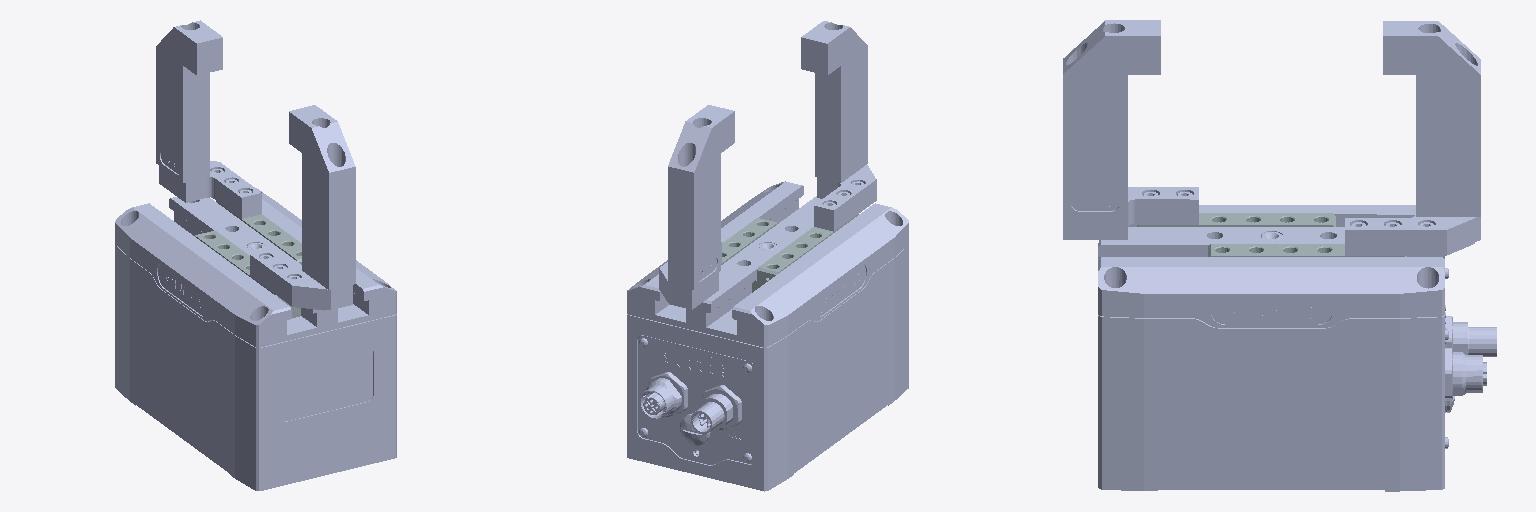
robot.urdf — egu_50:
<?xml version="1.0" ?>
<!-- =================================================================================== -->
<!-- |    This document was autogenerated by xacro from urdf/egu_50.urdf.xacro         | -->
<!-- |    EDITING THIS FILE BY HAND IS NOT RECOMMENDED                                 | -->
<!-- =================================================================================== -->
<robot name="egu_50">
  <!--degrees to radians-->
  <!-- colors -->
  <material name="light_blue_1">
    <color rgba="0.79216 0.81961 0.93333 1"/>
  </material>
  <material name="light_grey">
    <color rgba="0.69412 0.75294 0.77255 1"/>
  </material>
  <!-- xacro:egu_50_base_link prefix="" meshType="dae" / -->
  <!-- colors -->
  <material name="light_blue">
    <color rgba="0.79216 0.81961 0.93333 1"/>
  </material>
  <material name="grey">
    <color rgba="0.68627 0.68627 0.68627 1"/>
  </material>
  <!-- xacro:egu_50_fingers_link prefix="" meshType="dae" / -->
  <!-- xacro:egu_50_fingers_link prefix="" meshType="dae" / -->
  <!-- links -->
  <link name="root_link"/>
  <joint name="fixed_to_root" type="fixed">
    <origin rpy="0 0 1.57" xyz="0 0 -0.155"/>
    <parent link="root_link"/>
    <child link="egu_50_base_link"/>
    <axis xyz="0 0 0"/>
  </joint>
  <link name="egu_50_base_link">
    <inertial>
      <origin rpy="0 0 0" xyz="4.3604E-07 0.00037988 0.038749"/>
      <mass value="1.4423"/>
      <inertia ixx="0.0011497" ixy="-1.8423E-07" ixz="-9.465E-09" iyy="0.00061843" iyz="9.7336E-07" izz="0.0011032"/>
    </inertial>
    <visual>
      <origin rpy="0 0 0" xyz="0 0 0"/>
      <geometry>
        <mesh filename="meshes/base_link.dae"/>
      </geometry>
      <material name="light_blue_1"/>
    </visual>
    <collision>
      <origin rpy="0 0 0" xyz="0 0 0"/>
      <geometry>
        <mesh filename="collisions/base_link.STL"/>
      </geometry>
    </collision>
  </link>
  <link name="egu_50_symbol_1_left">
    <inertial>
      <origin rpy="0 0 0" xyz="-0.00014475 -7.7141E-05 -1.6517E-07"/>
      <mass value="0.00028259"/>
      <inertia ixx="1.9364E-08" ixy="-1.2932E-12" ixz="-2.7689E-15" iyy="1.2696E-09" iyz="-1.5694E-12" izz="1.8096E-08"/>
    </inertial>
    <visual>
      <origin rpy="0 0 0" xyz="0 0 0"/>
      <geometry>
        <mesh filename="meshes/symbol_1_left.dae"/>
      </geometry>
      <material name="light_blue_1"/>
    </visual>
  </link>
  <link name="egu_50_symbo_1_right">
    <inertial>
      <origin rpy="0 0 0" xyz="0.00014475 7.7141E-05 -1.6517E-07"/>
      <mass value="0.00028259"/>
      <inertia ixx="1.9364E-08" ixy="-1.2932E-12" ixz="2.7689E-15" iyy="1.2696E-09" iyz="1.5694E-12" izz="1.8096E-08"/>
    </inertial>
    <visual>
      <origin rpy="0 0 0" xyz="0 0 0"/>
      <geometry>
        <mesh filename="meshes/symbol_1_right.dae"/>
      </geometry>
      <material name="light_blue_1"/>
    </visual>
  </link>
  <link name="egu_50_translational_left">
    <inertial>
      <origin rpy="0 0 0" xyz="-1.4263E-11 -1.7621E-09 -0.0072452"/>
      <mass value="0.023586"/>
      <inertia ixx="4.5433E-06" ixy="-1.0067E-14" ixz="3.9379E-16" iyy="3.0604E-07" iyz="9.2402E-14" izz="4.5738E-06"/>
    </inertial>
    <visual>
      <origin rpy="0 0 0" xyz="0 0 0"/>
      <geometry>
        <mesh filename="meshes/translational_left.dae"/>
      </geometry>
      <material name="light_grey"/>
    </visual>
    <collision>
      <origin rpy="0 0 0" xyz="0 0 0"/>
      <geometry>
        <mesh filename="collisions/translational_left.dae"/>
      </geometry>
    </collision>
  </link>
  <link name="egu_50_translational_right">
    <inertial>
      <origin rpy="0 0 0" xyz="1.4263E-11 1.7621E-09 -0.0072452"/>
      <mass value="0.023586"/>
      <inertia ixx="4.5433E-06" ixy="-1.0067E-14" ixz="-3.9379E-16" iyy="3.0604E-07" iyz="-9.2402E-14" izz="4.5738E-06"/>
    </inertial>
    <visual>
      <origin rpy="0 0 0" xyz="0 0 0"/>
      <geometry>
        <mesh filename="meshes/translational_right.dae"/>
      </geometry>
      <material name="light_grey"/>
    </visual>
    <collision>
      <origin rpy="0 0 0" xyz="0 0 0"/>
      <geometry>
        <mesh filename="collisions/translational_right.dae"/>
      </geometry>
    </collision>
  </link>
  <!-- joints -->
  <joint name="egu_50_fixed_joint_symbol_1_left" type="fixed">
    <origin rpy="0 0 0" xyz="0 0.0353 0.0701"/>
    <parent link="egu_50_base_link"/>
    <child link="egu_50_symbol_1_left"/>
    <axis xyz="0 0 0"/>
  </joint>
  <joint name="egu_50_fixed_joint_symbol_1_right" type="fixed">
    <origin rpy="0 0 0" xyz="0 -0.0353 0.0701"/>
    <parent link="egu_50_base_link"/>
    <child link="egu_50_symbo_1_right"/>
    <axis xyz="0 0 0"/>
  </joint>
  <joint name="egu_50_prismatic_1" type="prismatic">
    <origin rpy="0 0 0" xyz="-0.01258 0.01265 0.083"/>
    <parent link="egu_50_base_link"/>
    <child link="egu_50_translational_left"/>
    <axis xyz="1 0 0"/>
    <limit effort="300" lower="-0.012" upper="0.039" velocity="0.11"/>
    <dynamics damping="0.3" friction="0.2"/>
  </joint>
  <joint name="egu_50_prismatic_2" type="prismatic">
    <origin rpy="0 0 0" xyz="0.01258 -0.01265 0.083"/>
    <parent link="egu_50_base_link"/>
    <child link="egu_50_translational_right"/>
    <axis xyz="1 0 0"/>
    <limit effort="300" lower="-0.039" upper="0.012" velocity="0.11"/>
    <mimic joint="egu_50_prismatic_1" multiplier="-1" offset="0"/>
    <dynamics damping="0.3" friction="0.2"/>
  </joint>
  <!-- links -->
  <link name="egu_50_base_link_left">
    <inertial>
      <origin rpy="0 0 0" xyz="0.0047644 -0.022233 -0.0049679"/>
      <mass value="0.011214"/>
      <inertia ixx="1.0648E-06" ixy="2.7782E-07" ixz="-1.0154E-09" iyy="3.0857E-07" iyz="2.0857E-09" izz="1.2766E-06"/>
    </inertial>
    <visual>
      <origin rpy="0 0 0" xyz="0 0 0"/>
      <geometry>
        <mesh filename="meshes/gripper_base_link_left.dae"/>
      </geometry>
      <material name="light_blue"/>
    </visual>
    <collision>
      <origin rpy="0 0 0" xyz="0 0 0"/>
      <geometry>
        <mesh filename="collisions/gripper_base_link_left.dae"/>
      </geometry>
    </collision>
  </link>
  <link name="egu_50_base_link_right">
    <inertial>
      <origin rpy="0 0 0" xyz="-0.0047644 0.022233 -0.0049679"/>
      <mass value="0.011214"/>
      <inertia ixx="1.0648E-06" ixy="2.7782E-07" ixz="1.0154E-09" iyy="3.0857E-07" iyz="-2.0857E-09" izz="1.2766E-06"/>
    </inertial>
    <visual>
      <origin rpy="0 0 0" xyz="0 0 0"/>
      <geometry>
        <mesh filename="meshes/gripper_base_link_right.dae"/>
      </geometry>
      <material name="light_blue"/>
    </visual>
    <collision>
      <origin rpy="0 0 0" xyz="0 0 0"/>
      <geometry>
        <mesh filename="meshes/gripper_base_link_right.dae"/>
      </geometry>
      <material name="light_blue"/>
    </collision>
  </link>
  <link name="egu_50_finger_down">
    <inertial>
      <origin rpy="0 0 0" xyz="-3.0212E-05 -0.0036302 0.036294"/>
      <mass value="0.028"/>
      <inertia ixx="8.0228E-06" ixy="-1.3517E-09" ixz="-1.4745E-08" iyy="7.1741E-06" iyz="-1.1797E-06" izz="1.4075E-06"/>
    </inertial>
    <visual>
      <origin rpy="0 0 0" xyz="0 0 0"/>
      <geometry>
        <mesh filename="meshes/gripper_finger_down.dae"/>
      </geometry>
      <material name="light_blue"/>
    </visual>
    <collision>
      <origin rpy="0 0 0" xyz="0 0 0"/>
      <geometry>
        <mesh filename="collisions/gripper_finger_down.STL"/>
      </geometry>
    </collision>
  </link>
  <link name="egu_50_finger_up">
    <inertial>
      <origin rpy="0 0 0" xyz="3.0212E-05 0.0036302 0.036294"/>
      <mass value="0.028"/>
      <inertia ixx="8.0228E-06" ixy="-1.3517E-09" ixz="1.4745E-08" iyy="7.1741E-06" iyz="1.1797E-06" izz="1.4075E-06"/>
    </inertial>
    <visual>
      <origin rpy="0 0 0" xyz="0 0 0"/>
      <geometry>
        <mesh filename="meshes/gripper_finger_up.dae"/>
      </geometry>
      <material name="light_blue"/>
    </visual>
    <collision>
      <origin rpy="0 0 0" xyz="0 0 0"/>
      <geometry>
        <mesh filename="collisions/gripper_finger_up.STL"/>
      </geometry>
    </collision>
  </link>
  <link name="egu_50_symbol_2_left">
    <inertial>
      <origin rpy="0 0 0" xyz="-0.00014622 -3.5571E-05 -4.593E-08"/>
      <mass value="5E-05"/>
      <inertia ixx="6.5907E-10" ixy="-1.2575E-13" ixz="-1.6238E-16" iyy="7.8343E-11" iyz="-6.746E-14" izz="5.8113E-10"/>
    </inertial>
    <visual>
      <origin rpy="0 0 0" xyz="0 0 0"/>
      <geometry>
        <mesh filename="meshes/symbol_2_left.dae"/>
      </geometry>
      <material name="light_blue"/>
    </visual>
  </link>
  <link name="egu_50_symbol_2_right">
    <inertial>
      <origin rpy="0 0 0" xyz="0.00014622 3.5571E-05 -4.593E-08"/>
      <mass value="5E-05"/>
      <inertia ixx="6.5907E-10" ixy="-1.2575E-13" ixz="1.6238E-16" iyy="7.8343E-11" iyz="6.746E-14" izz="5.8113E-10"/>
    </inertial>
    <visual>
      <origin rpy="0 0 0" xyz="0 0 0"/>
      <geometry>
        <mesh filename="meshes/symbol_2_right.dae"/>
      </geometry>
      <material name="light_blue"/>
    </visual>
  </link>
  <link name="egu_50_screw_1">
    <inertial>
      <origin rpy="0 0 0" xyz="-5.9458E-20 -6.9389E-18 -0.0040161"/>
      <mass value="0.00059"/>
      <inertia ixx="1.2809E-08" ixy="3.2834E-26" ixz="2.1005E-25" iyy="1.2809E-08" iyz="2.3683E-25" izz="1.3113E-09"/>
    </inertial>
    <visual>
      <origin rpy="0 0 0" xyz="0 0 0"/>
      <geometry>
        <mesh filename="meshes/screw_1.dae"/>
      </geometry>
      <material name="grey"/>
    </visual>
  </link>
  <link name="egu_50_screw_2">
    <inertial>
      <origin rpy="0 0 0" xyz="-5.8248E-20 0 -0.0040161"/>
      <mass value="0.00059"/>
      <inertia ixx="1.2809E-08" ixy="3.2834E-26" ixz="2.1401E-25" iyy="1.2809E-08" iyz="2.3533E-25" izz="1.3113E-09"/>
    </inertial>
    <visual>
      <origin rpy="0 0 0" xyz="0 0 0"/>
      <geometry>
        <mesh filename="meshes/screw_2.dae"/>
      </geometry>
      <material name="grey"/>
    </visual>
  </link>
  <link name="egu_50_screw_3">
    <inertial>
      <origin rpy="0 0 0" xyz="5.9458E-20 0 -0.0040161"/>
      <mass value="0.00059"/>
      <inertia ixx="1.2809E-08" ixy="3.2834E-26" ixz="-2.1005E-25" iyy="1.2809E-08" iyz="-2.3683E-25" izz="1.3113E-09"/>
    </inertial>
    <visual>
      <origin rpy="0 0 0" xyz="0 0 0"/>
      <geometry>
        <mesh filename="meshes/screw_3.dae"/>
      </geometry>
      <material name="grey"/>
    </visual>
  </link>
  <link name="egu_50_screw_4">
    <inertial>
      <origin rpy="0 0 0" xyz="5.9458E-20 6.9389E-18 -0.0040161"/>
      <mass value="0.00059"/>
      <inertia ixx="1.2809E-08" ixy="3.2834E-26" ixz="-2.1005E-25" iyy="1.2809E-08" iyz="-2.3683E-25" izz="1.3113E-09"/>
    </inertial>
    <visual>
      <origin rpy="0 0 0" xyz="0 0 0"/>
      <geometry>
        <mesh filename="meshes/screw_4.dae"/>
      </geometry>
      <material name="grey"/>
    </visual>
  </link>
  <!-- joints -->
  <joint name="fixed_joint_egu_50_screw_2" type="fixed">
    <origin rpy="0 0 0" xyz="0.025 0.01258 0.00800000000000001"/>
    <parent link="egu_50_base_link_right"/>
    <child link="egu_50_screw_2"/>
    <axis xyz="0 0 0"/>
  </joint>
  <joint name="fixed_joint_egu_50_screw_1" type="fixed">
    <origin rpy="0 0 0" xyz="0.038 0.01258 0.00800000000000001"/>
    <parent link="egu_50_base_link_right"/>
    <child link="egu_50_screw_1"/>
    <axis xyz="0 0 0"/>
  </joint>
  <joint name="fixed_joint_egu_50_screw_3" type="fixed">
    <origin rpy="0 0 0" xyz="-0.025 -0.01258 0.00800000000000001"/>
    <parent link="egu_50_base_link_left"/>
    <child link="egu_50_screw_3"/>
    <axis xyz="0 0 0"/>
  </joint>
  <joint name="fixed_joint_egu_50_screw_4" type="fixed">
    <origin rpy="0 0 0" xyz="-0.038 -0.01258 0.00800000000000001"/>
    <parent link="egu_50_base_link_left"/>
    <child link="egu_50_screw_4"/>
    <axis xyz="0 0 0"/>
  </joint>
  <joint name="fixed_joint_finger_up" type="fixed">
    <origin rpy="0 0 0" xyz="0 0 -0.00800000000000001"/>
    <parent link="egu_50_screw_2"/>
    <child link="egu_50_finger_up"/>
    <axis xyz="0 0 0"/>
  </joint>
  <joint name="fixed_joint_gripper_finger_down" type="fixed">
    <origin rpy="0 0 0" xyz="0.013 0 -0.00800000000000001"/>
    <parent link="egu_50_screw_4"/>
    <child link="egu_50_finger_down"/>
    <axis xyz="0 0 0"/>
  </joint>
  <joint name="fixed_joint_symbol_2_left" type="fixed">
    <origin rpy="0 0 0" xyz="0.0065 0.00575 0.005"/>
    <parent link="egu_50_finger_up"/>
    <child link="egu_50_symbol_2_left"/>
    <axis xyz="0 0 0"/>
  </joint>
  <joint name="fixed_joint_symbol_2_right" type="fixed">
    <origin rpy="0 0 0" xyz="-0.0065 -0.00575 0.005"/>
    <parent link="egu_50_finger_down"/>
    <child link="egu_50_symbol_2_right"/>
    <axis xyz="0 0 0"/>
  </joint>
  <gazebo reference="egu_50_finger_down">
    <kp>1000000.0</kp>
    <kd>1.0</kd>
    <mu1>1.0</mu1>
    <mu2>1.0</mu2>
    <minDepth>0.001</minDepth>
  </gazebo>
  <gazebo reference="egu_50_finger_up">
    <kp>1000000.0</kp>
    <kd>1.0</kd>
    <mu1>1.0</mu1>
    <mu2>1.0</mu2>
    <minDepth>0.001</minDepth>
  </gazebo>
  <transmission name="trans_prismatic_joint_translational_1_effort">
    <type>transmission_interface/SimpleTransmission</type>
    <joint name="egu_50_prismatic_1">
      <hardwareInterface>hardware_interface/EffortJointInterface</hardwareInterface>
    </joint>
    <actuator name="prismatic_joint_translational_1_motor_effort">
      <hardwareInterface>hardware_interface/EffortJointInterface</hardwareInterface>
      <mechanicalReduction>1</mechanicalReduction>
    </actuator>
  </transmission>
  <gazebo>
    <plugin filename="libroboticsgroup_upatras_gazebo_mimic_joint_plugin.so" name="translational_2">
      <joint>egu_50_prismatic_1</joint>
      <mimicJoint>egu_50_prismatic_2</mimicJoint>
      <multiplier>-1</multiplier>
      <offset>0</offset>
    </plugin>
  </gazebo>
  <!-- links -->
  <!--link name="world" /-->
  <!--
        <joint name="fixed" type="fixed">
            <parent link="world" />
            <child link="${prefix}base_link" />
        </joint>
-->
  <!-- <joint name="fixed_joint_gripper_base_link_right" type="fixed">
          <origin xyz="0.018 0 0.01" rpy="1.5708 0 -1.5708" />
          <parent link="${prefix_1}_translational_right" />
          <child link="${prefix_2}_base_link_right" />
          <axis xyz="0 0 0" />
        </joint>

        <joint name="fixed_joint_gripper_base_link_left" type="fixed">
          <origin xyz="-0.018 0 0.01" rpy="1.5708 0 1.5708" />
          <parent link="${prefix_1}_translational_left" />
          <child link="${prefix_2}_base_link_left" />
          <axis xyz="0 0 0" />
        </joint> -->
  <joint name="fixed_joint_gripper_base_link_right" type="fixed">
    <origin rpy="0 0 0" xyz="0.018 0 0.01"/>
    <parent link="egu_50_translational_right"/>
    <child link="egu_50_base_link_right"/>
    <axis xyz="0 0 0"/>
  </joint>
  <joint name="fixed_joint_gripper_base_link_left" type="fixed">
    <origin rpy="0 0 0" xyz="-0.018 0 0.01"/>
    <parent link="egu_50_translational_left"/>
    <child link="egu_50_base_link_left"/>
    <axis xyz="0 0 0"/>
  </joint>
</robot>

--- Facts derived from the render (not from the file) ---
3 views of the same robot in one strip: view 1: azimuth 30°, elevation 25°; view 2: azimuth 150°, elevation 25°; view 3: azimuth 270°, elevation 25° (orthographic).
Robot: egu_50 — 16 links, 15 joints (2 prismatic, 13 fixed); root link root_link; default pose: every joint at zero.
Links seen in each view (by area): view 1: egu_50_base_link, egu_50_finger_down, egu_50_finger_up, egu_50_base_link_left, egu_50_base_link_right, egu_50_translational_right, egu_50_translational_left, egu_50_symbol_1_left; view 2: egu_50_base_link, egu_50_finger_up, egu_50_finger_down, egu_50_base_link_left, egu_50_translational_left, egu_50_base_link_right, egu_50_symbol_1_left, egu_50_translational_right; view 3: egu_50_base_link, egu_50_finger_up, egu_50_finger_down, egu_50_base_link_right, egu_50_base_link_left, egu_50_symbo_1_right, egu_50_translational_left, egu_50_translational_right, egu_50_symbol_2_right.
Boxes of the visible links, x1=… form: egu_50_base_link: x1=115, y1=188, x2=396, y2=490; egu_50_finger_down: x1=289, y1=105, x2=355, y2=289; egu_50_finger_up: x1=156, y1=20, x2=222, y2=182; egu_50_base_link_left: x1=250, y1=250, x2=352, y2=310; egu_50_base_link_right: x1=159, y1=161, x2=261, y2=218; egu_50_translational_right: x1=216, y1=201, x2=301, y2=264; egu_50_translational_left: x1=195, y1=231, x2=300, y2=318; egu_50_symbol_1_left: x1=158, y1=264, x2=207, y2=316; egu_50_base_link: x1=627, y1=181, x2=908, y2=491; egu_50_finger_up: x1=668, y1=105, x2=734, y2=289; egu_50_finger_down: x1=801, y1=21, x2=867, y2=182; egu_50_base_link_left: x1=814, y1=165, x2=876, y2=231; egu_50_translational_left: x1=752, y1=214, x2=858, y2=292; egu_50_base_link_right: x1=659, y1=242, x2=721, y2=309; egu_50_symbol_1_left: x1=816, y1=264, x2=865, y2=316; egu_50_translational_right: x1=721, y1=218, x2=777, y2=264; egu_50_base_link: x1=1098, y1=205, x2=1496, y2=491; egu_50_finger_up: x1=1383, y1=21, x2=1480, y2=216; egu_50_finger_down: x1=1063, y1=20, x2=1160, y2=215; egu_50_base_link_right: x1=1345, y1=215, x2=1480, y2=255; egu_50_base_link_left: x1=1063, y1=187, x2=1198, y2=239; egu_50_symbo_1_right: x1=1211, y1=296, x2=1332, y2=324; egu_50_translational_left: x1=1137, y1=213, x2=1335, y2=226; egu_50_translational_right: x1=1208, y1=244, x2=1406, y2=256; egu_50_symbol_2_right: x1=1071, y1=195, x2=1119, y2=210.
Size in the robot's own frame: 0.0721 by 0.1529 by 0.163 metres.
Meshes: 15 distinct files referenced, 13 mesh visuals loaded (13 Collada DAE); not drawn: 2 (reference not matched to a file when rendering).
